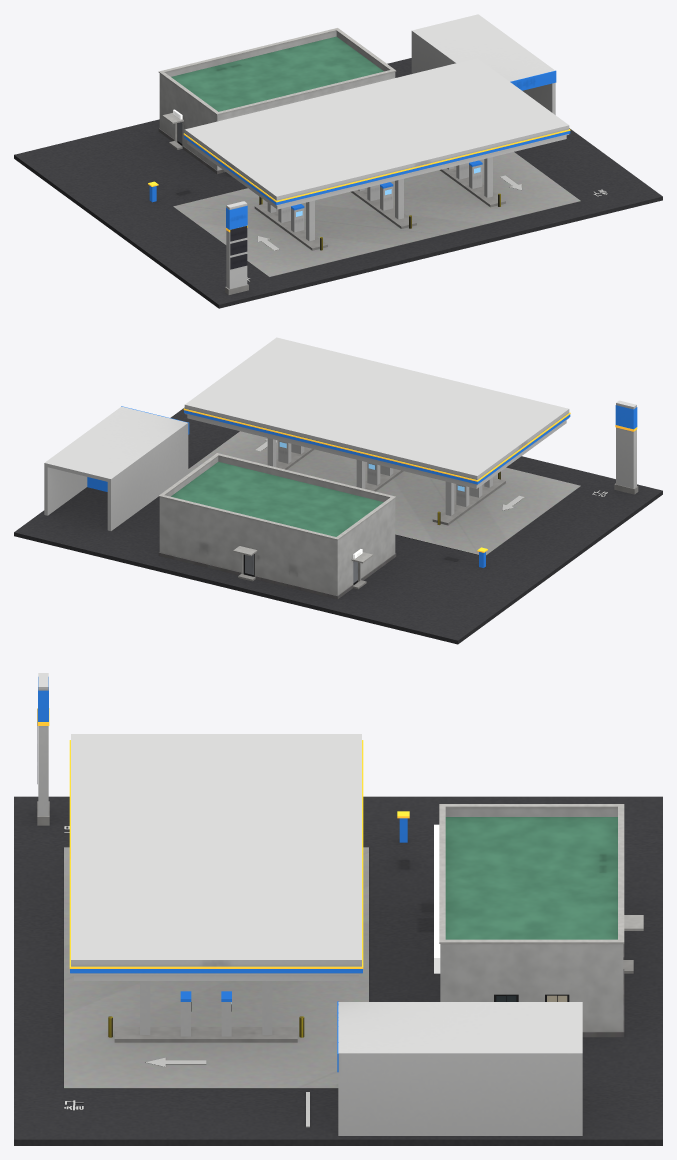
The model's file is IlsanGasStation_LOD2.fbx.
3 views of the same model, one above another, from view 1: azimuth 30°, elevation 25°; view 2: azimuth 150°, elevation 25°; view 3: azimuth 270°, elevation 25° (orthographic). The views are drawn at different scales.
Visible parts, largest first — view 1: IlsanGasStation_LOD2; view 2: IlsanGasStation_LOD2; view 3: IlsanGasStation_LOD2.
Part boxes in pixels (x1,y1,x2,y2): IlsanGasStation_LOD2: (14, 14, 662, 308); IlsanGasStation_LOD2: (14, 337, 662, 644); IlsanGasStation_LOD2: (14, 673, 662, 1145).
Bounding box in the file's own units: 39.9 × 7.8 × 31.9.
1 material, 1 textured.
